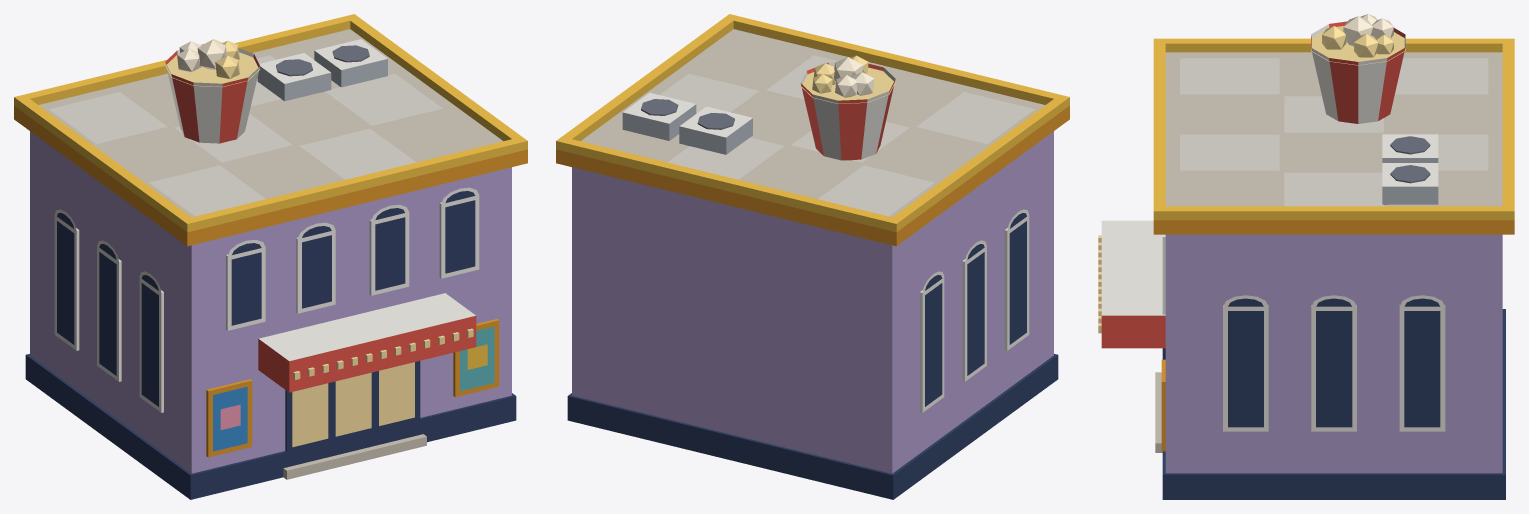
File: B_Cinema.fbx
3 renders of one model, left to right at view 1: azimuth 30°, elevation 25°; view 2: azimuth 150°, elevation 25°; view 3: azimuth 270°, elevation 25°, orthographic. The views are drawn at different scales.
Visible parts, largest first — view 1: B_Cinema; view 2: B_Cinema; view 3: B_Cinema.
Boxes of the visible parts, x1,y1,x2,y2 form: B_Cinema: (14,14,527,499); B_Cinema: (556,14,1069,499); B_Cinema: (1098,14,1514,499).
Size of the model in its own units: 5.1 by 5.19 by 5.19.
